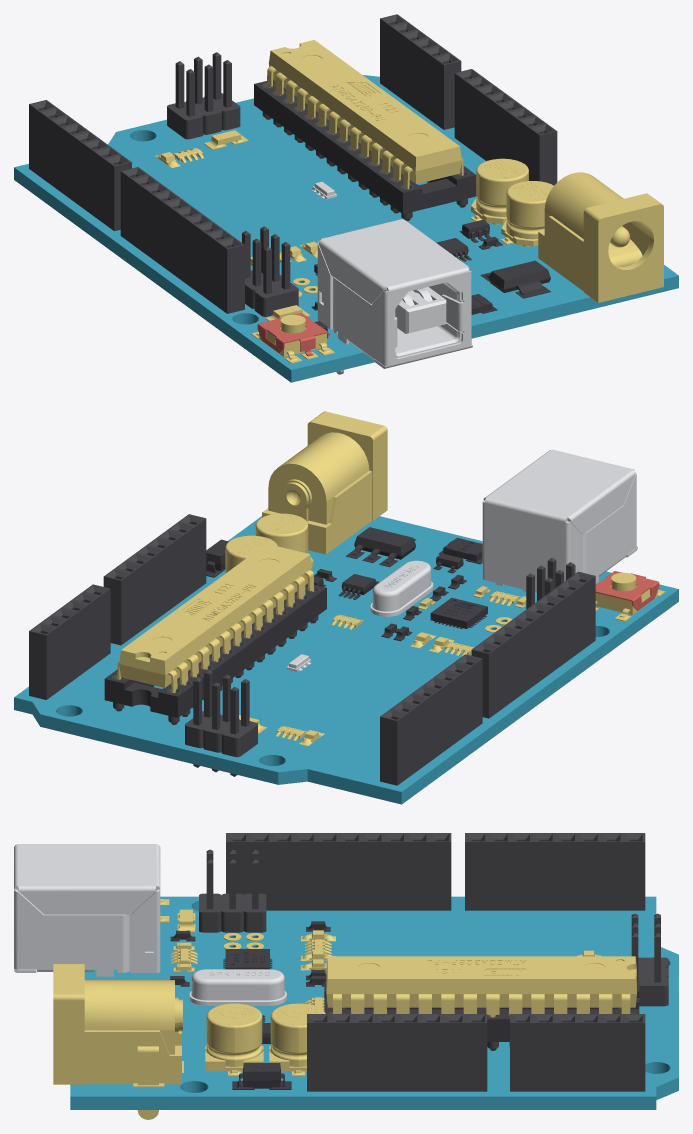
The model's file is arduino-uno.glb.
3 views of the same model, one above another, from view 1: azimuth 30°, elevation 25°; view 2: azimuth 150°, elevation 25°; view 3: azimuth 270°, elevation 25° (orthographic). The views are drawn at different scales.
Visible parts, largest first — view 1: unoboard blue, part (×5), USB SHELL, 8 PORT HEADER (×2), 10 PORT HEADER, 2pin_header__02 (×6), dip28, 6 PORT HEADER, USB core, nano - reg, RESET; view 2: unoboard blue, part (×6), USB SHELL, 8 PORT HEADER (×2), 10 PORT HEADER, 6 PORT HEADER, dip28, 2pin_header__02 (×3), crystal, nano - reg, atmega16u2, RESET (+3 smaller); view 3: unoboard blue, part (×5), 8 PORT HEADER (×2), USB SHELL, 10 PORT HEADER, 6 PORT HEADER, 2pin_header__02 (×4), crystal, dip28, m7 diode, atmega16u2.
Boxes of the visible parts, x1,y1,x2,y2 form: unoboard blue: (14, 75, 678, 382); part (×5): (251, 40, 663, 363); USB SHELL: (317, 219, 472, 374); 8 PORT HEADER (×2): (29, 69, 557, 230); 10 PORT HEADER: (120, 167, 244, 313); 2pin_header__02 (×6): (167, 52, 298, 316); dip28: (254, 80, 476, 214); 6 PORT HEADER: (380, 14, 461, 129); USB core: (385, 281, 462, 357); nano - reg: (480, 260, 550, 298); RESET: (257, 313, 328, 356); unoboard blue: (14, 516, 678, 804); part (×6): (119, 411, 665, 687); USB SHELL: (482, 449, 637, 592); 8 PORT HEADER (×2): (103, 514, 482, 785); 10 PORT HEADER: (471, 571, 595, 718); 6 PORT HEADER: (29, 584, 110, 699); dip28: (104, 583, 326, 717); 2pin_header__02 (×3): (185, 670, 257, 776); crystal: (370, 560, 433, 616); nano - reg: (345, 527, 416, 567); atmega16u2: (430, 597, 487, 629); RESET: (595, 571, 659, 610); unoboard blue: (70, 896, 678, 1109); part (×5): (53, 956, 636, 1119); 8 PORT HEADER (×2): (307, 833, 645, 1091); USB SHELL: (14, 844, 160, 976); 10 PORT HEADER: (226, 833, 451, 910); 6 PORT HEADER: (510, 1014, 645, 1091); 2pin_header__02 (×4): (199, 849, 668, 1006); crystal: (189, 969, 286, 1005); dip28: (324, 981, 639, 1041); m7 diode: (232, 1063, 291, 1089); atmega16u2: (223, 949, 272, 969).
Bounding box in the file's own units: 53.34 × 15.25 × 74.93.
